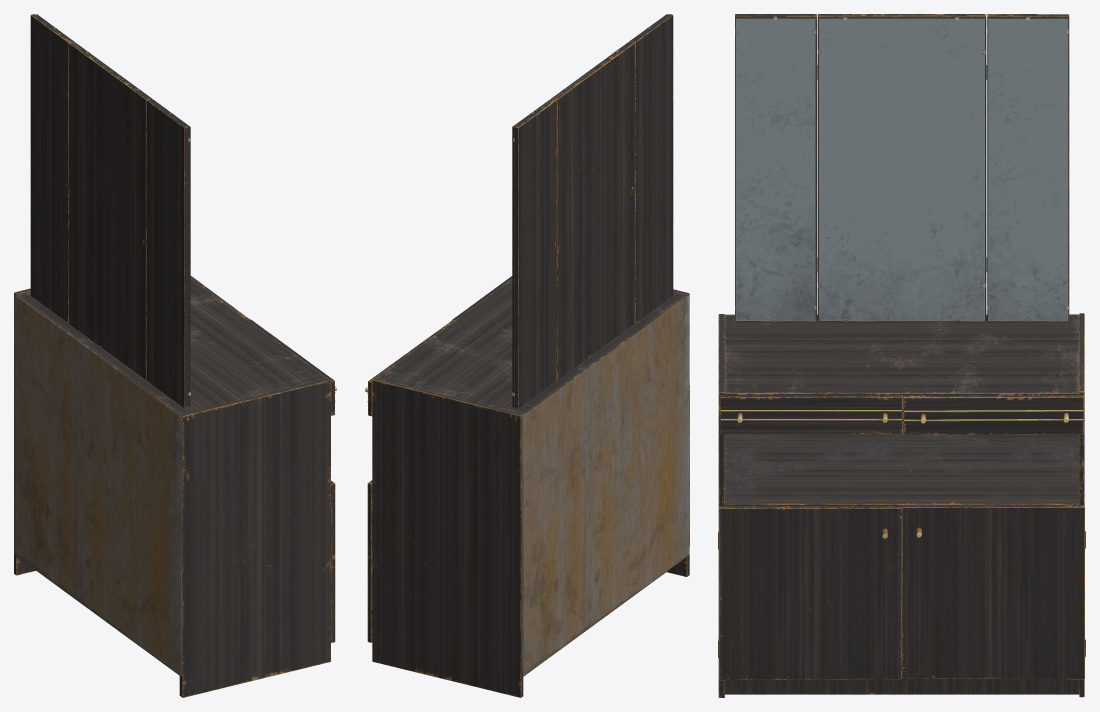
Rendered from Cabinet_Mirror01.fbx.
The picture shows the model from 3 angles, left to right: view 1: azimuth 30°, elevation 25°; view 2: azimuth 150°, elevation 25°; view 3: azimuth 270°, elevation 25°; orthographic projection. The views are drawn at different scales.
Visible parts, largest first — view 1: Cabinet_Body, plank (×3), Mirror, LOD0; view 2: Cabinet_Body, plank (×3), LOD0, Mirror; view 3: reflection (×3), LOD0 (×4), Cabinet_Body, Mirror (×3), plank (×2).
Boxes of the visible parts, x1,y1,x2,y2 form: Cabinet_Body: [14, 278, 330, 697]; plank (×3): [30, 14, 188, 408]; Mirror: [152, 99, 190, 406]; LOD0: [331, 480, 335, 642]; Cabinet_Body: [372, 279, 689, 697]; plank (×3): [514, 14, 673, 408]; LOD0: [367, 480, 372, 642]; Mirror: [512, 99, 551, 407]; reflection (×3): [735, 18, 1068, 321]; LOD0 (×4): [718, 395, 1085, 680]; Cabinet_Body: [718, 313, 1084, 697]; Mirror (×3): [735, 17, 1068, 321]; plank (×2): [817, 14, 1069, 320].
Size of what is drawn, in the model's own units: 78.31 by 257 by 140.
